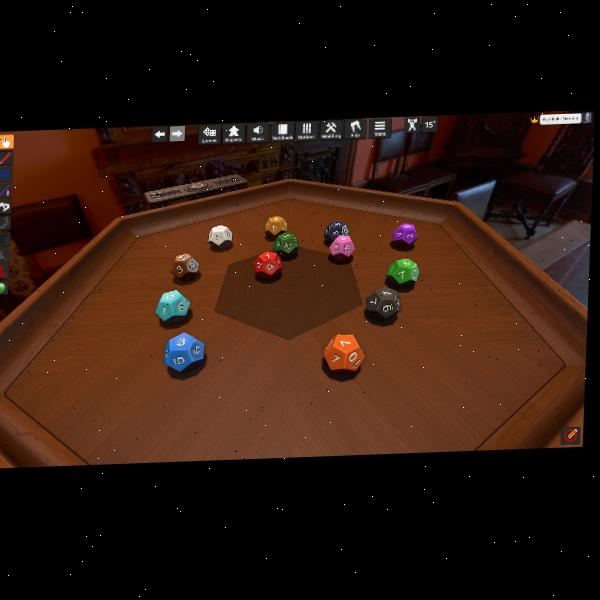d12: (163, 332, 206, 373), (322, 334, 363, 374), (366, 286, 401, 322), (156, 289, 191, 323), (386, 258, 418, 288), (253, 251, 282, 280), (168, 253, 198, 281), (391, 222, 418, 249), (329, 234, 354, 260), (274, 231, 299, 257), (208, 224, 232, 247), (324, 220, 348, 242), (265, 215, 287, 236)
